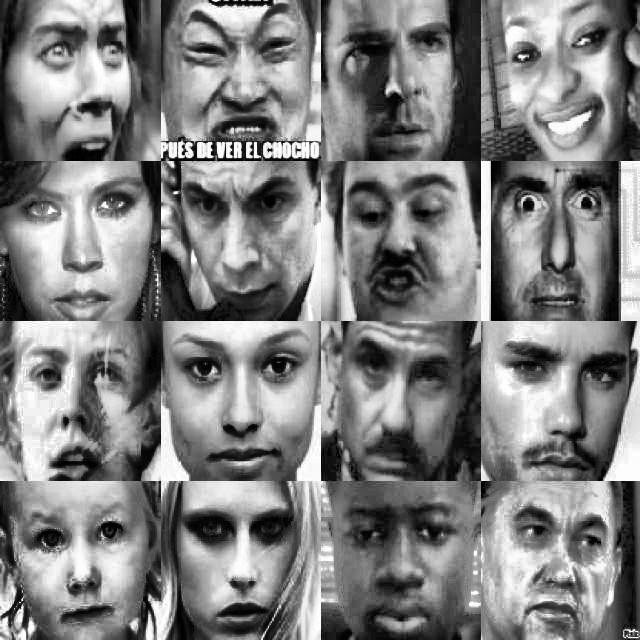angry: (333, 486, 462, 640), (180, 4, 304, 148), (342, 165, 460, 311), (333, 15, 456, 151), (347, 324, 456, 476), (21, 493, 137, 630), (502, 496, 614, 636)
fear: (177, 164, 306, 310), (21, 330, 137, 478), (505, 165, 616, 317), (26, 10, 137, 156)
happy: (502, 4, 622, 152)
neutral: (170, 324, 312, 472), (12, 170, 146, 316), (496, 332, 630, 476), (171, 493, 303, 637)
